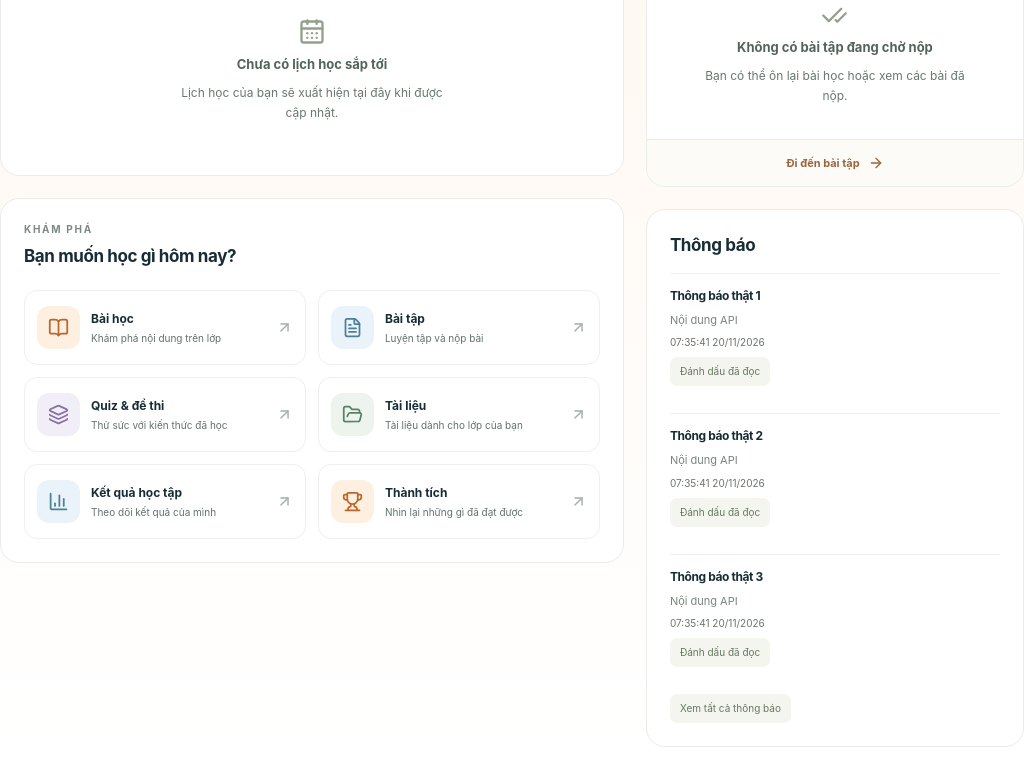
API portal screens › expands real overview notifications and marks them read with the existing API
(page scrolled)
Expected: the heading "Thông báo thật 1" is shown, [670,288,760,303]
Expected: the text "Thông báo thật 4" is not shown
Click the button "Xem tất cả thông báo": click(730, 709) [670,694,791,723]
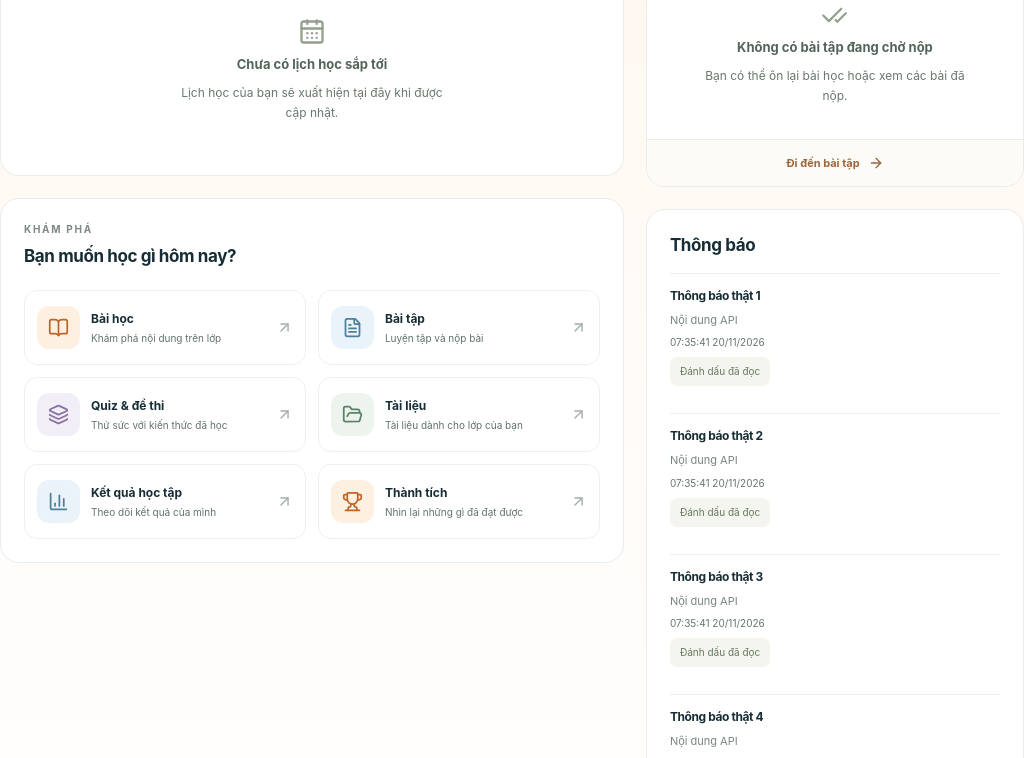
Now the heading "Thông báo thật 4" is shown, box [670,709,763,724]
Click the button "Đánh dấu đã đọc" below "Thông báo thật 1": click(720, 372) [670,357,770,386]
(page scrolled)
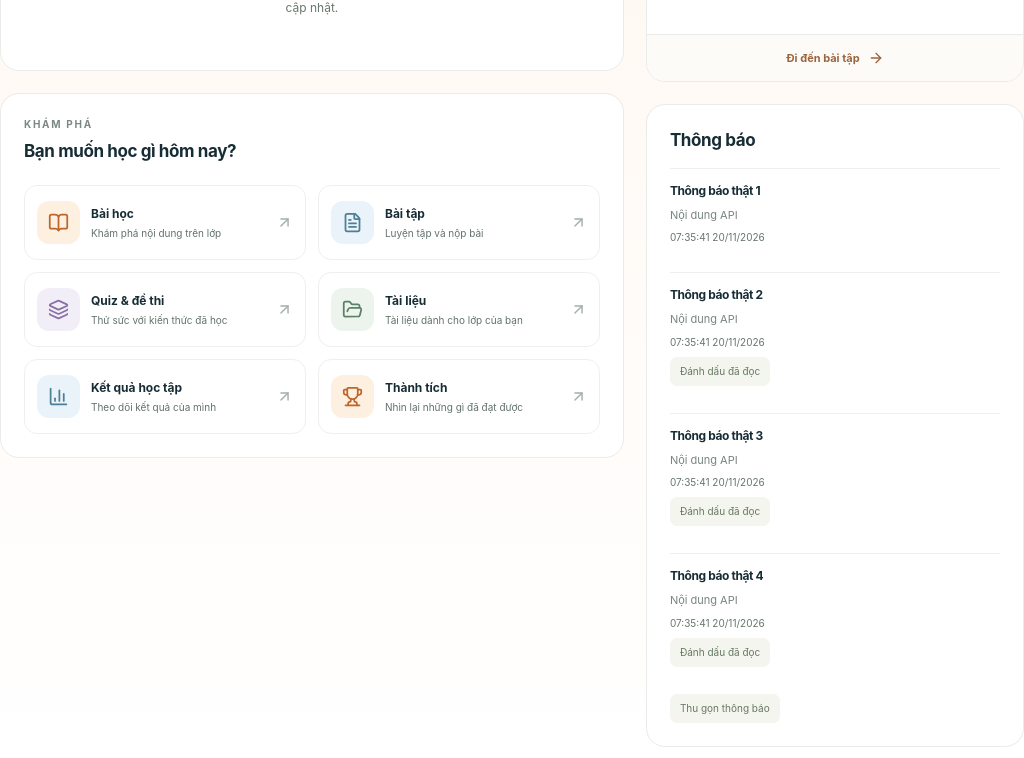
Now the number of buttons "Đánh dấu đã đọc" is 3, box [670,357,770,386]; [670,497,770,526]; [670,638,770,667]
Click the button "Thu gọn thông báo": click(725, 708) [670,694,780,723]
(page scrolled)
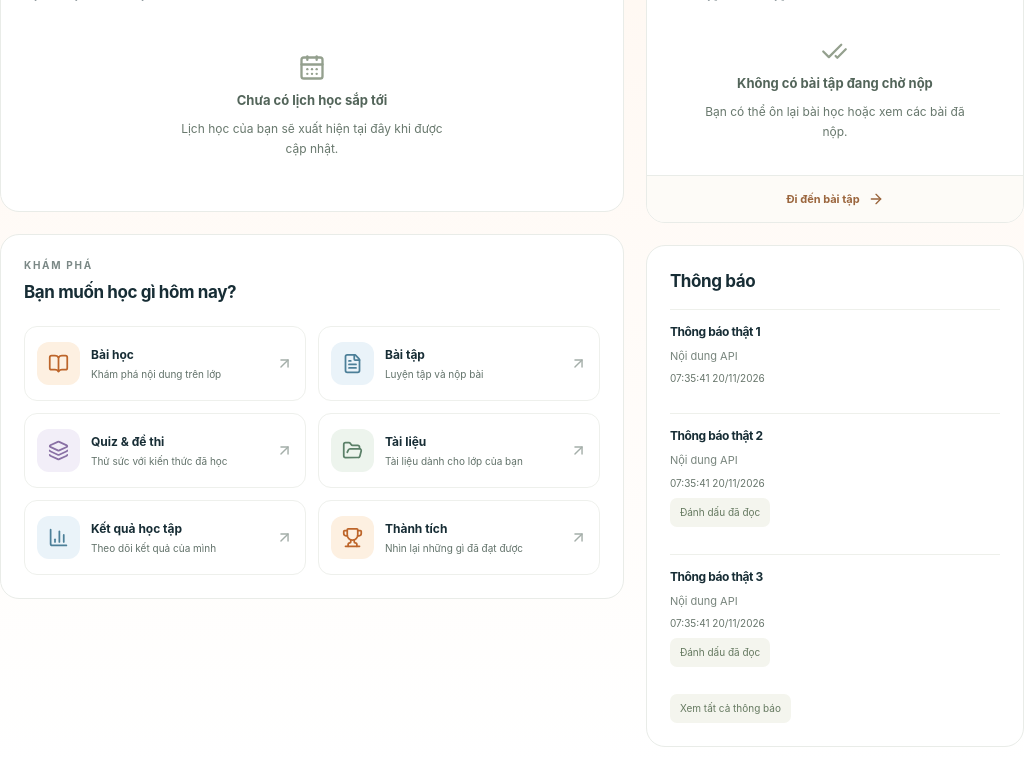
Expected: the heading "Không có bài tập đang chờ nộp" is shown, [737,74,933,93]
Now the heading "Thông báo thật 4" is gone
